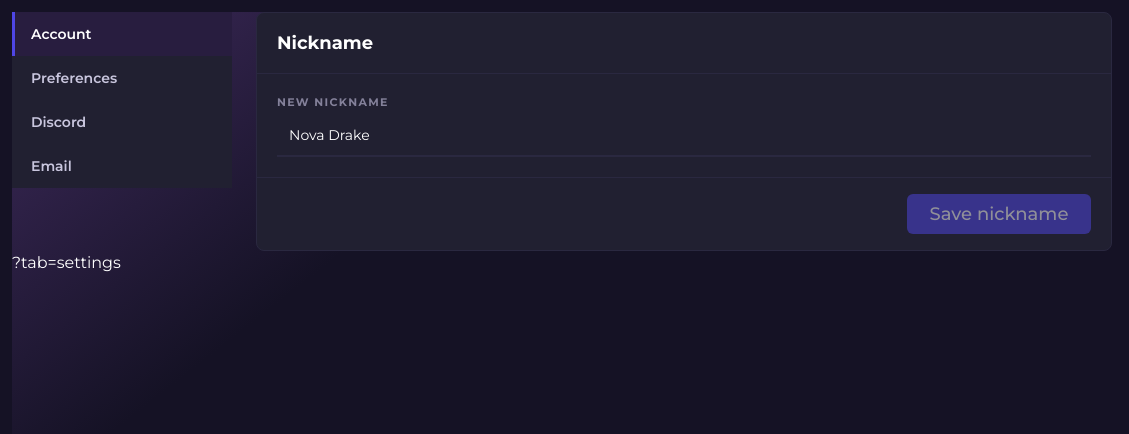
Test case: the settings tab › switches section from the list and keeps it in the url
Click the button "Email" at (122, 166), box 12,144 -> 232,188
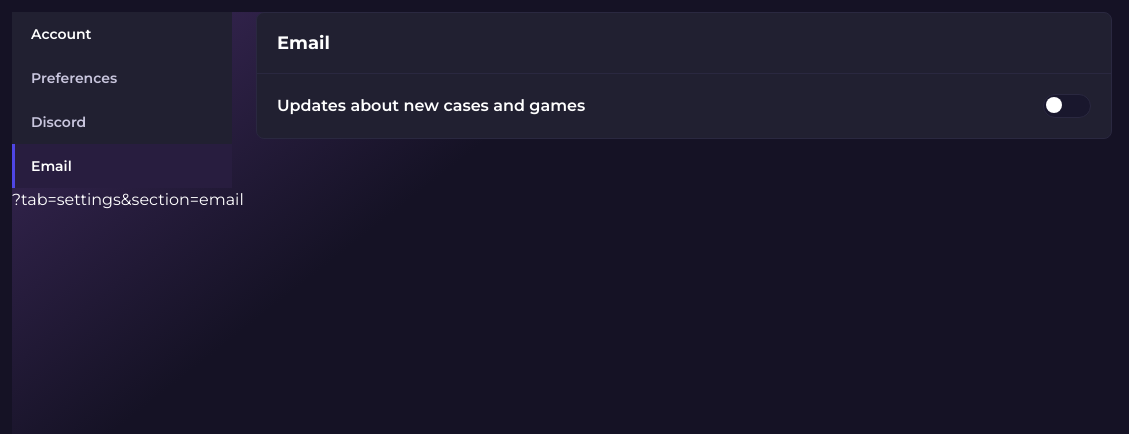
Expected: the switch named "updates about new cases" is shown, 1043,94 -> 1091,118
Expected: the text with test id "search" reads "?tab=settings&section=email", 12,190 -> 244,209
